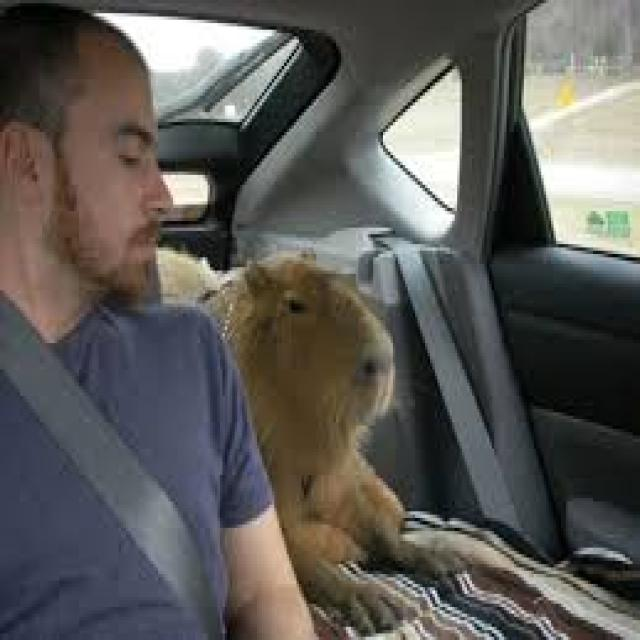capy: (201, 250, 469, 630)
